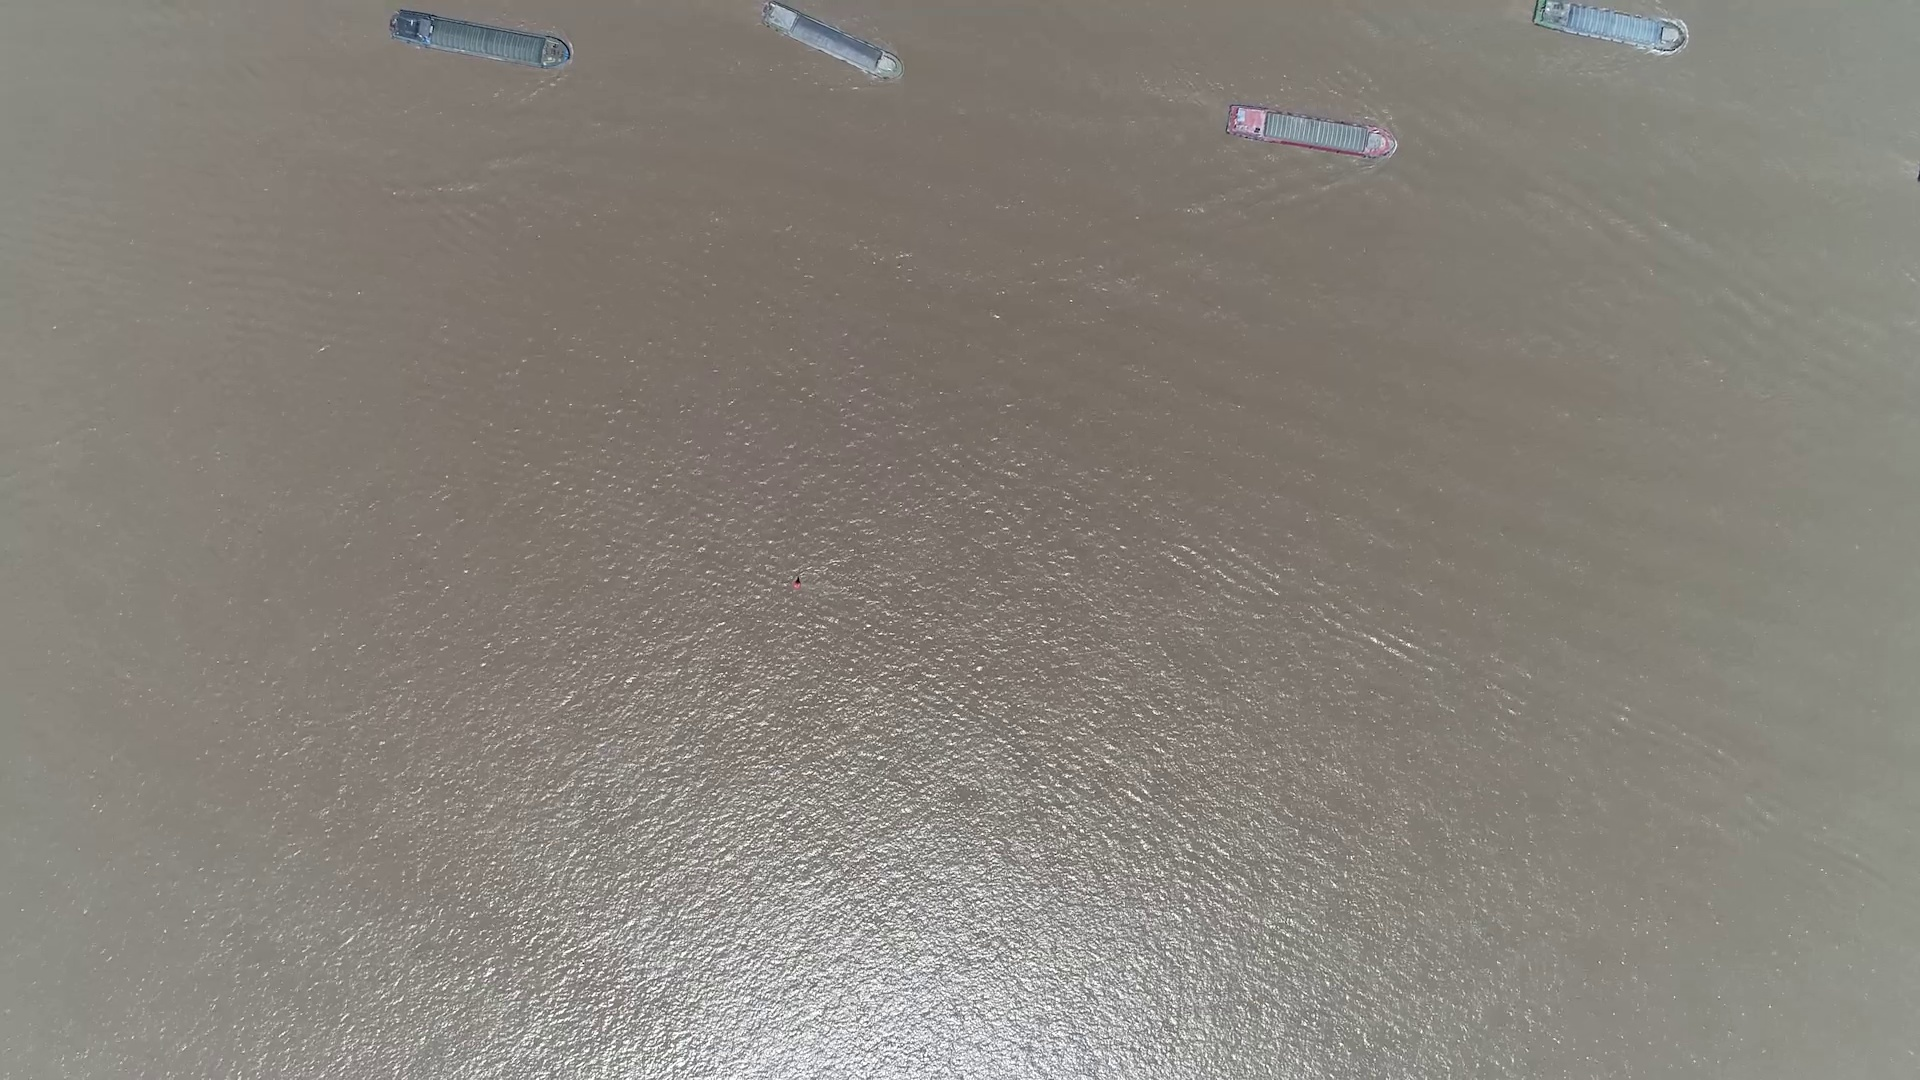ship: (392, 9, 574, 70), (761, 5, 899, 76), (1225, 105, 1396, 160), (1531, 1, 1688, 51)
